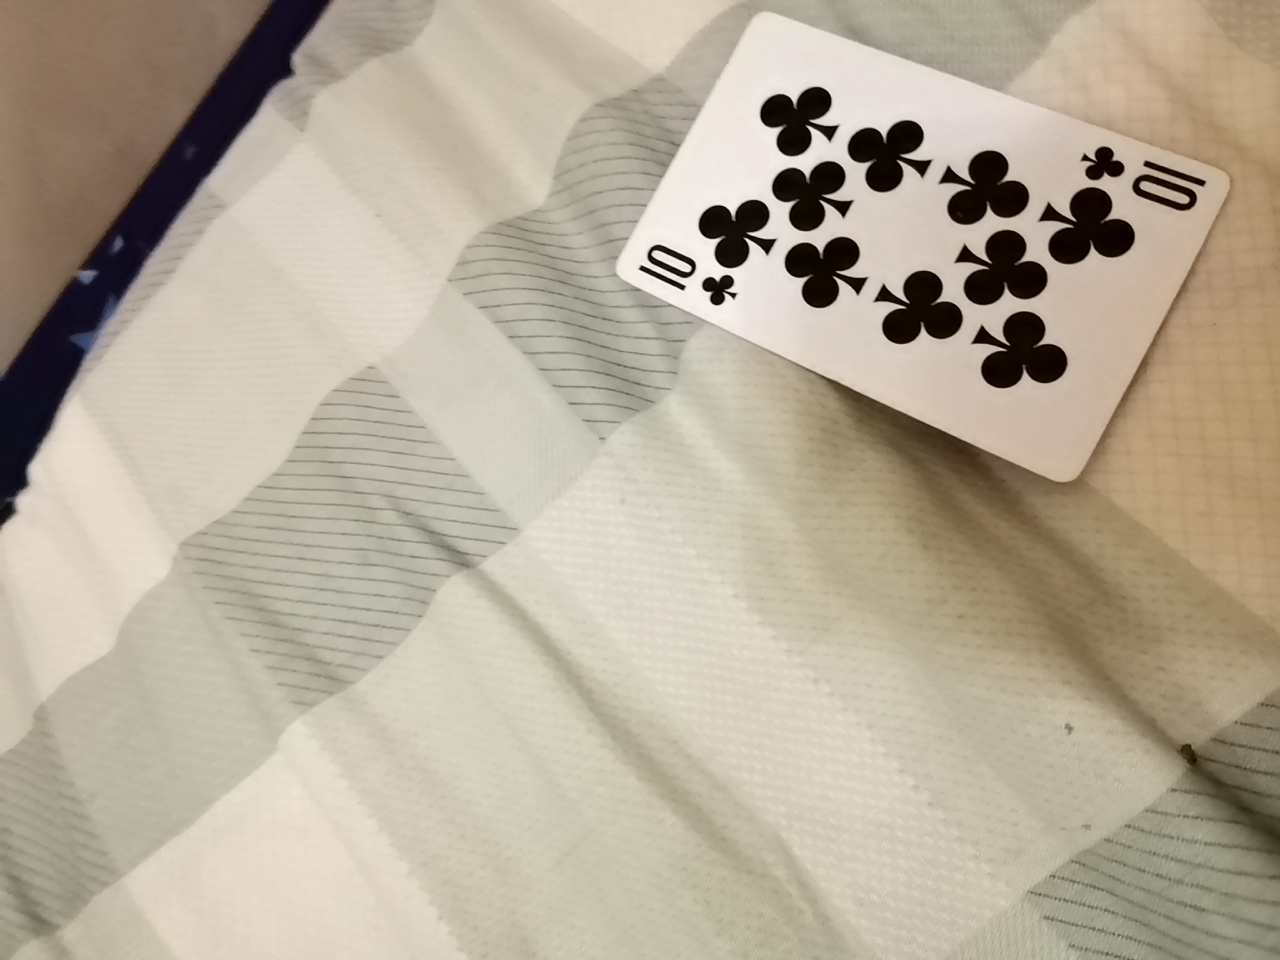mh 10: (628, 13, 1211, 495)
